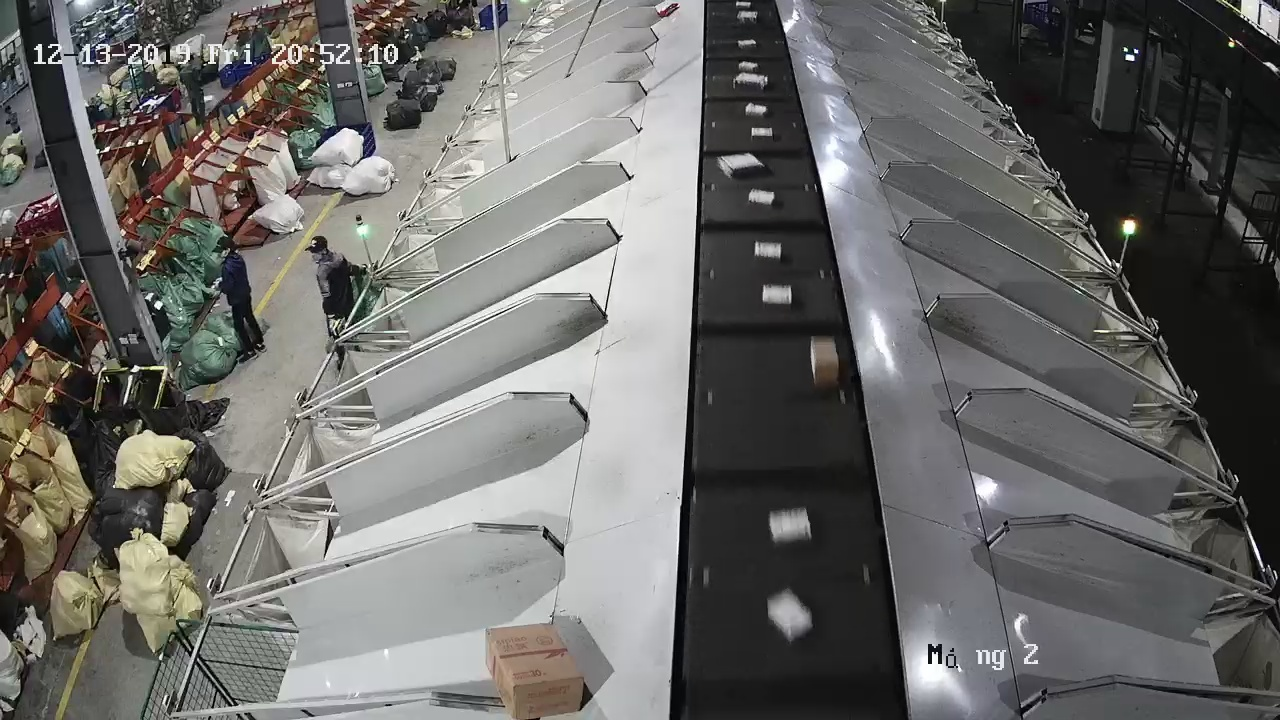parcel: (715, 149, 769, 180)
